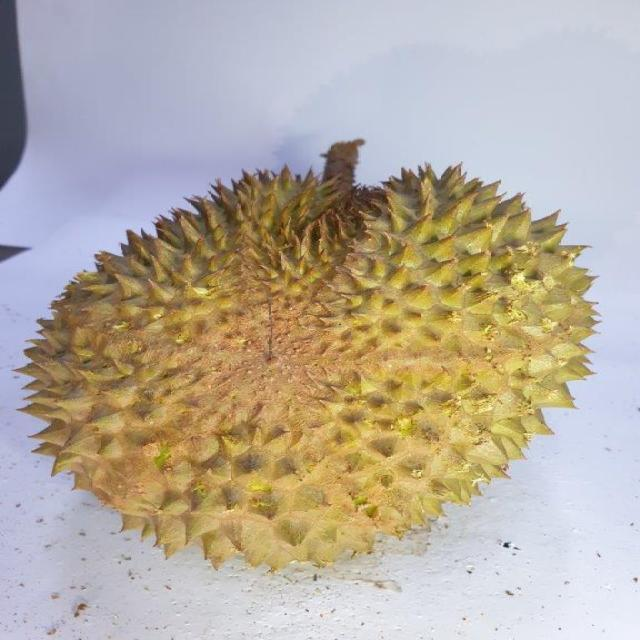mature: (14, 157, 602, 575)
